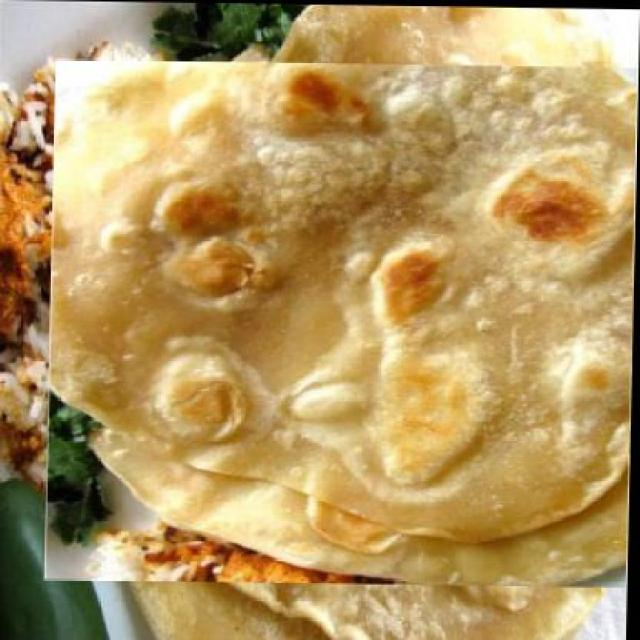chapati: (76, 28, 638, 618)
